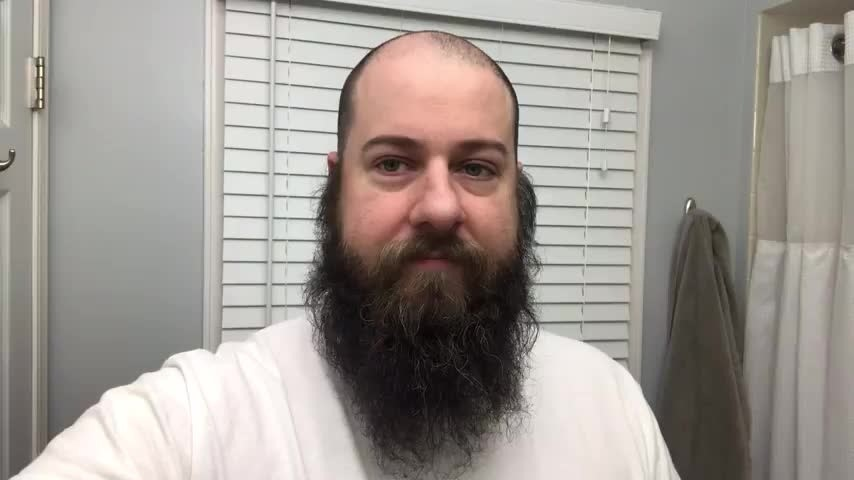face_no_mask: (318, 27, 540, 345)
